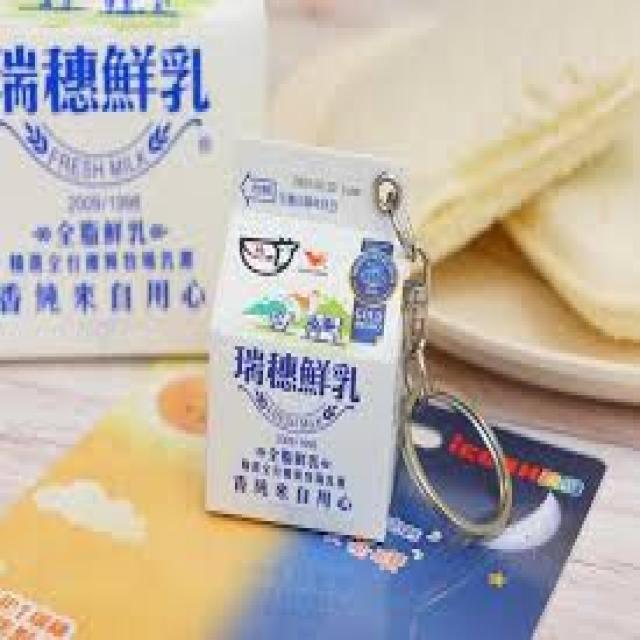RuiSui_Milk: (198, 124, 414, 540)
